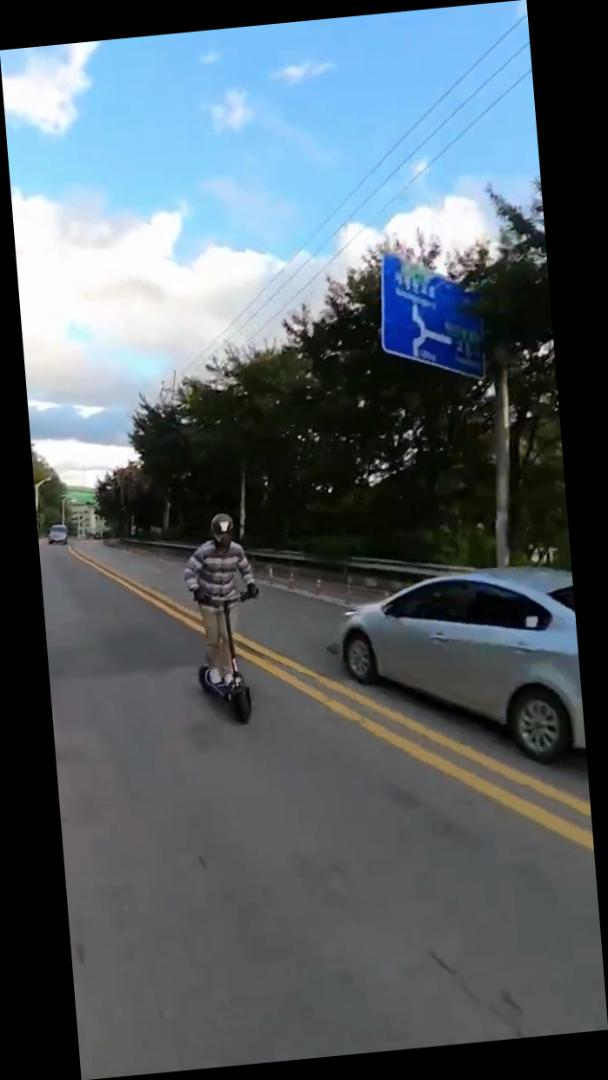helmet: (177, 505, 274, 733)
